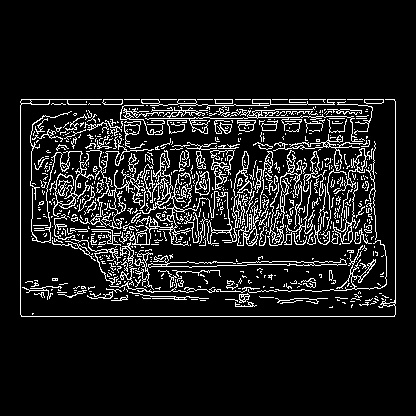buddha-sitting: (35, 72, 131, 190)
